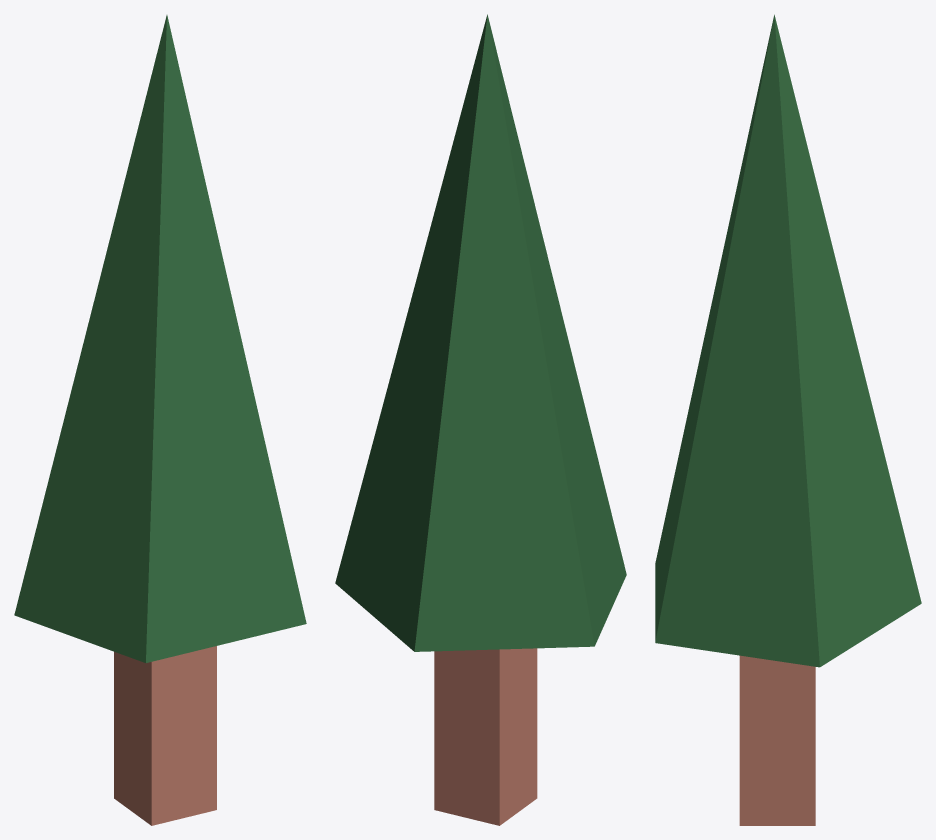
The model's file is TreeLOD2Merged.gltf.
3 renders of one model, left to right at view 1: azimuth 30°, elevation 25°; view 2: azimuth 150°, elevation 25°; view 3: azimuth 270°, elevation 25°, orthographic.
Visible parts, largest first — view 1: Tree; view 2: Tree; view 3: Tree.
Boxes of the visible parts, box(x1,y1,x2,y2) form: Tree: box(14, 15, 306, 825); Tree: box(335, 14, 626, 825); Tree: box(655, 14, 921, 825).
Bounding box in the file's own units: 1.74 × 5.06 × 1.54.
Materials: 1 (1 with a texture image).
